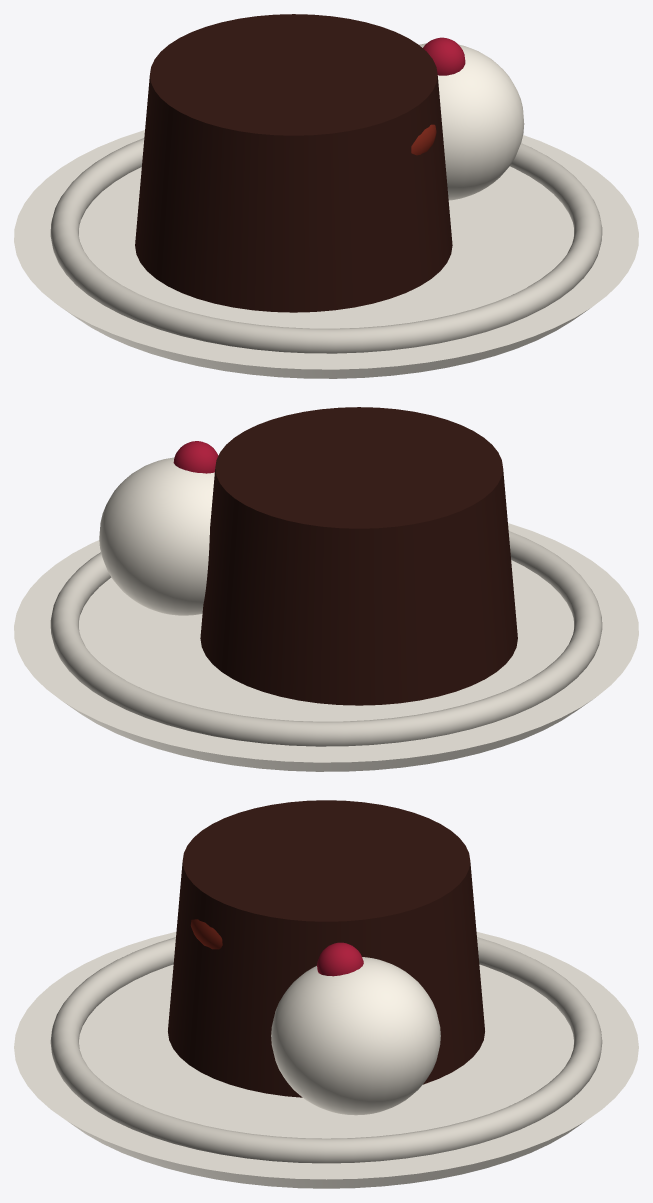
Rendered from ChocolateFondant.glb.
The picture shows the model from 3 angles, top to bottom: view 1: azimuth 30°, elevation 25°; view 2: azimuth 150°, elevation 25°; view 3: azimuth 270°, elevation 25°; orthographic projection.
Bounding box in the file's own units: 5.3 × 1.77 × 5.3.
